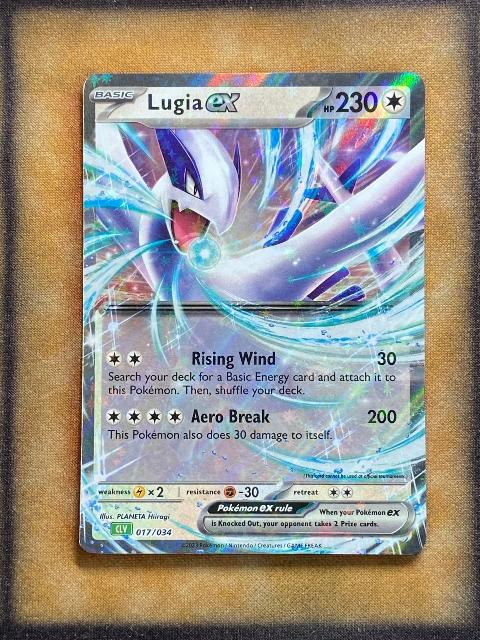Card: (74, 67, 433, 560)
Name: (143, 88, 245, 116)
